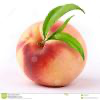Peach leaf: (43, 3, 86, 39), (50, 33, 85, 62), (47, 15, 75, 42)
